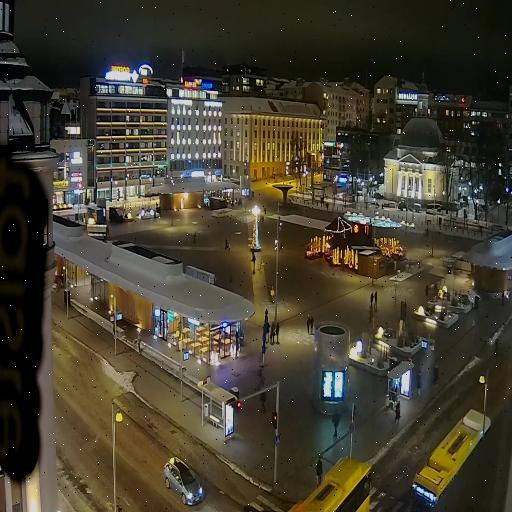Bus: (411, 409, 490, 512), (290, 457, 371, 512)
Car: (163, 456, 205, 506)
